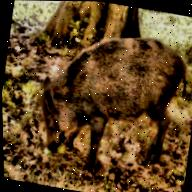boar: (9, 14, 192, 188)
